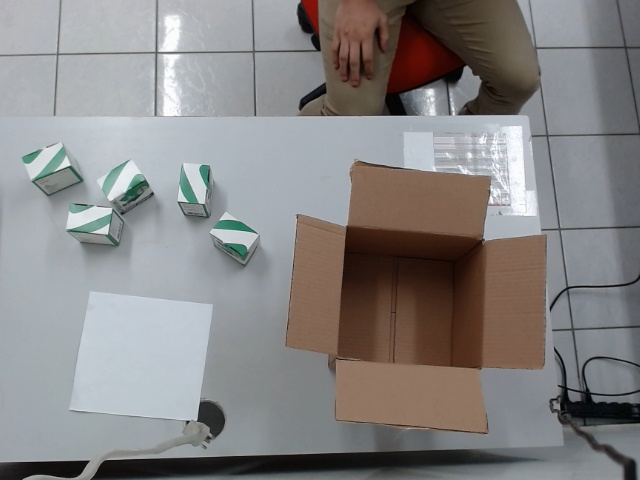divisor: (66, 288, 215, 423)
item: (20, 140, 84, 197), (95, 157, 154, 216), (208, 211, 262, 267), (64, 201, 126, 247), (176, 162, 213, 219)
